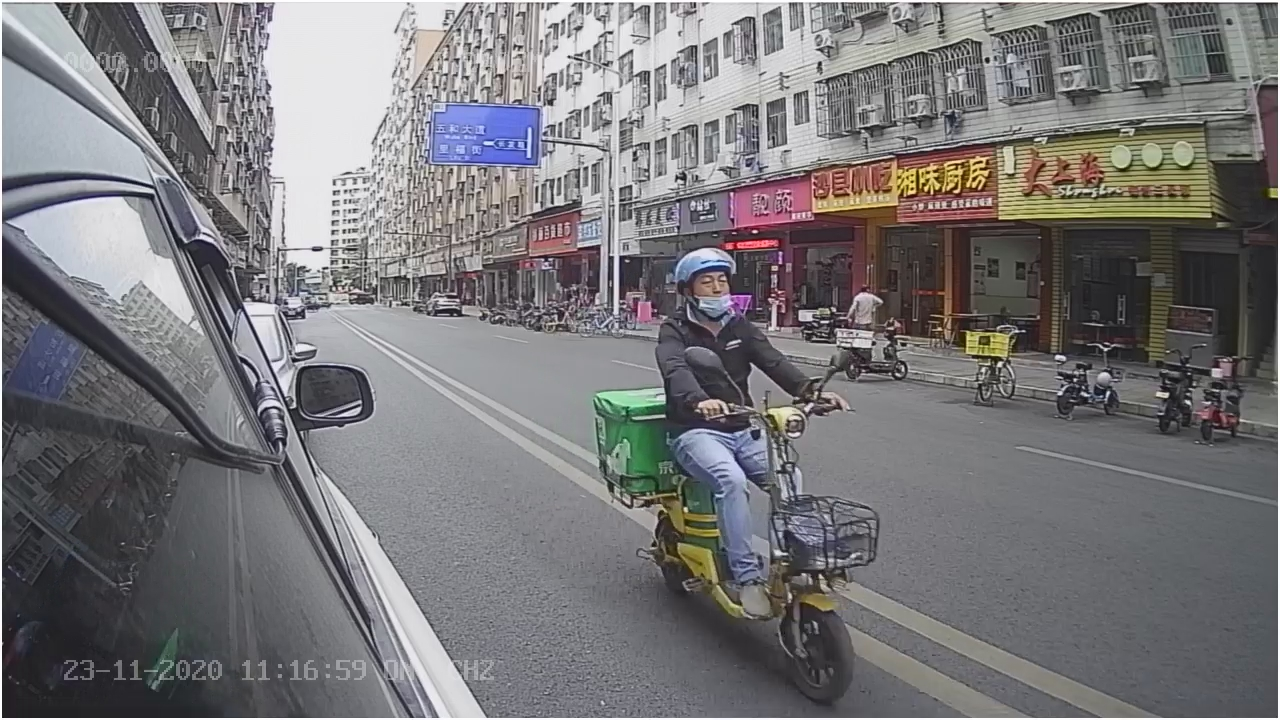person: (652, 247, 846, 423)
